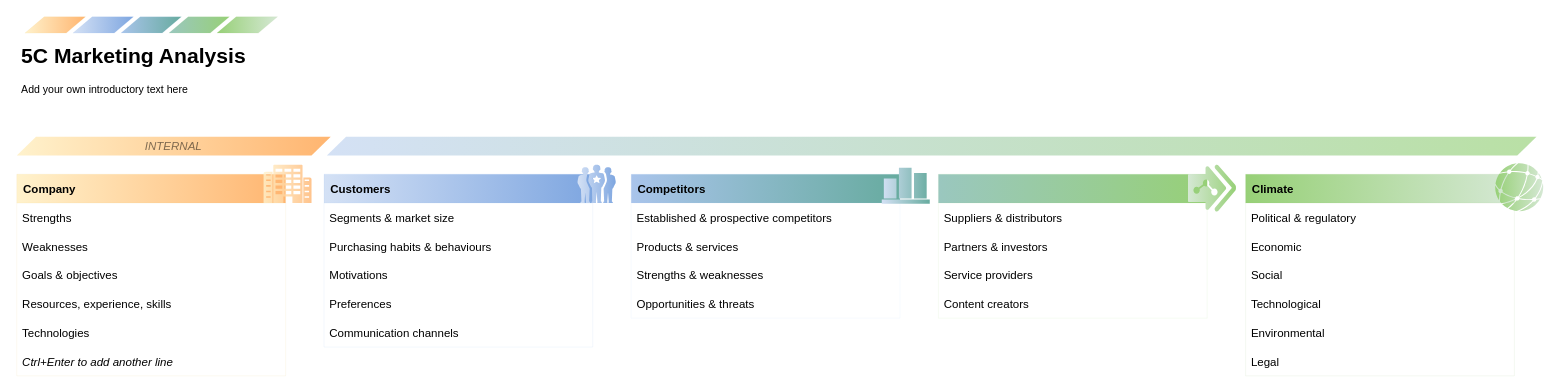
Image size: 1560x392. Some labels were removed from this diagram. Each missing label, with the box of its shape:
Collaborators: (938, 174, 1207, 318)
EXTERNAL: (326, 136, 1536, 155)
